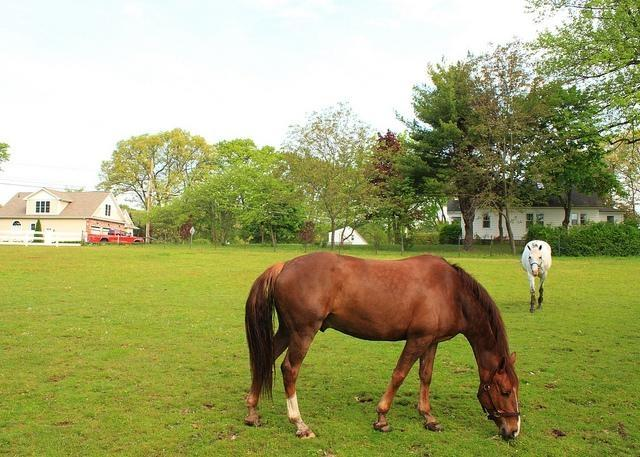truck: (87, 228, 145, 242)
